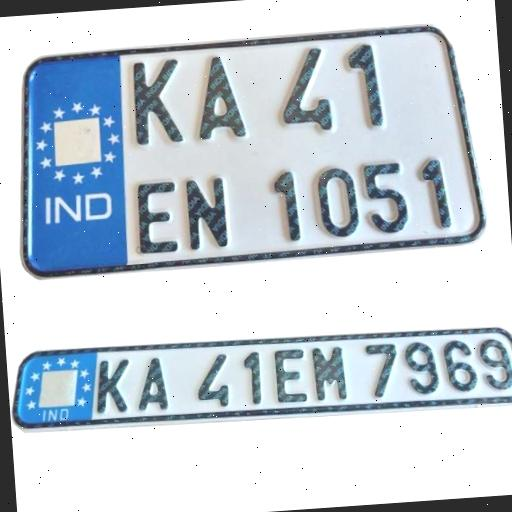number plate: (14, 31, 476, 270), (21, 312, 512, 433)
